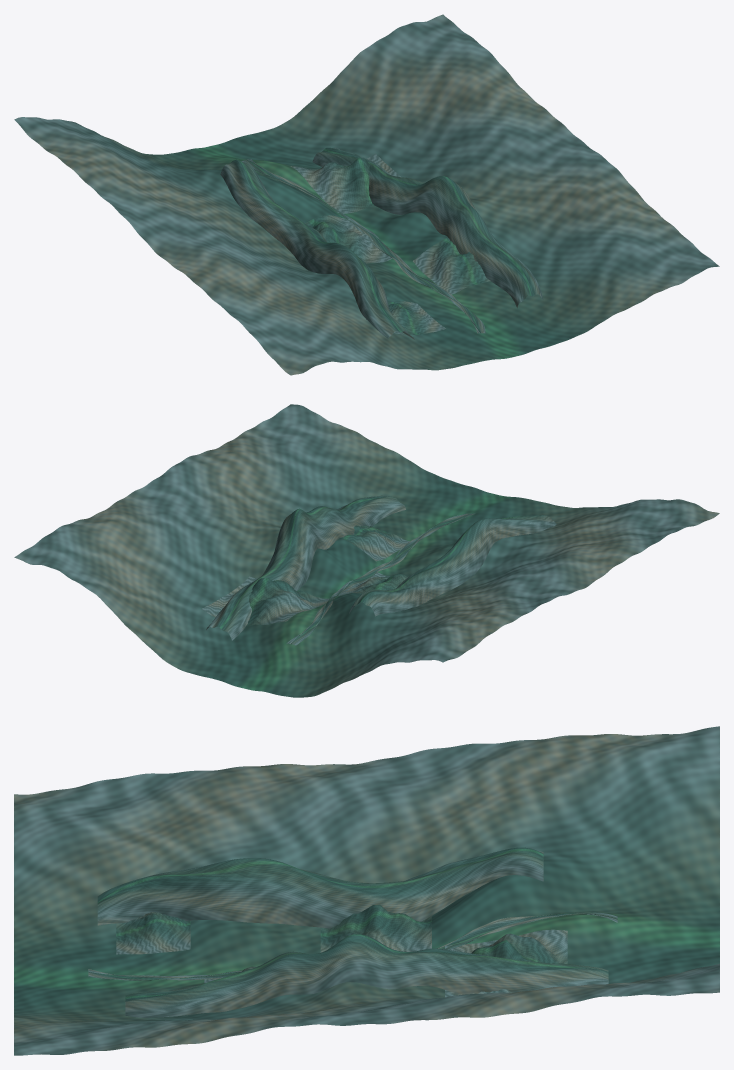
The model's file is life-map-memory-sanctuary-v214.glb.
3 views of the same model, one above another, from view 1: azimuth 30°, elevation 25°; view 2: azimuth 150°, elevation 25°; view 3: azimuth 270°, elevation 25° (orthographic). The views are drawn at different scales.
Parts seen in each view (by area): view 1: life-map-v214-continuous-eroded-memory-sanctuary, life-map-v214-east-archive-scarp, life-map-v214-west-lineage-scarp, life-map-v214-future-weathering-terrace, life-map-v214-midground-recovery-terrace, life-map-v214-deep-history-terrace, life-map-v214-narrow-worn-memory-trace, life-map-v214-foreground-witness-terrace; view 2: life-map-v214-continuous-eroded-memory-sanctuary, life-map-v214-east-archive-scarp, life-map-v214-west-lineage-scarp, life-map-v214-future-weathering-terrace, life-map-v214-narrow-worn-memory-trace, life-map-v214-midground-recovery-terrace, life-map-v214-deep-history-terrace; view 3: life-map-v214-continuous-eroded-memory-sanctuary, life-map-v214-west-lineage-scarp, life-map-v214-east-archive-scarp, life-map-v214-deep-history-terrace, life-map-v214-future-weathering-terrace, life-map-v214-foreground-witness-terrace, life-map-v214-narrow-worn-memory-trace.
Boxes of the visible parts, x1=… form: life-map-v214-continuous-eroded-memory-sanctuary: x1=14, y1=14, x2=719, y2=375; life-map-v214-east-archive-scarp: x1=312, y1=147, x2=543, y2=307; life-map-v214-west-lineage-scarp: x1=220, y1=159, x2=414, y2=339; life-map-v214-future-weathering-terrace: x1=290, y1=153, x2=401, y2=213; life-map-v214-midground-recovery-terrace: x1=413, y1=238, x2=490, y2=294; life-map-v214-deep-history-terrace: x1=305, y1=215, x2=392, y2=263; life-map-v214-narrow-worn-memory-trace: x1=241, y1=159, x2=485, y2=333; life-map-v214-foreground-witness-terrace: x1=388, y1=301, x2=445, y2=334; life-map-v214-continuous-eroded-memory-sanctuary: x1=14, y1=404, x2=719, y2=697; life-map-v214-east-archive-scarp: x1=206, y1=495, x2=405, y2=640; life-map-v214-west-lineage-scarp: x1=349, y1=515, x2=556, y2=616; life-map-v214-future-weathering-terrace: x1=201, y1=576, x2=334, y2=625; life-map-v214-narrow-worn-memory-trace: x1=286, y1=513, x2=474, y2=645; life-map-v214-midground-recovery-terrace: x1=340, y1=525, x2=409, y2=561; life-map-v214-deep-history-terrace: x1=334, y1=572, x2=407, y2=596; life-map-v214-continuous-eroded-memory-sanctuary: x1=14, y1=726, x2=719, y2=1055; life-map-v214-west-lineage-scarp: x1=97, y1=847, x2=543, y2=928; life-map-v214-east-archive-scarp: x1=125, y1=934, x2=608, y2=1017; life-map-v214-deep-history-terrace: x1=320, y1=904, x2=431, y2=952; life-map-v214-future-weathering-terrace: x1=445, y1=929, x2=567, y2=997; life-map-v214-foreground-witness-terrace: x1=116, y1=912, x2=190, y2=954; life-map-v214-narrow-worn-memory-trace: x1=88, y1=912, x2=617, y2=980.
Size of the model in its own units: 68 by 13.62 by 76.
1 material, 1 textured.
